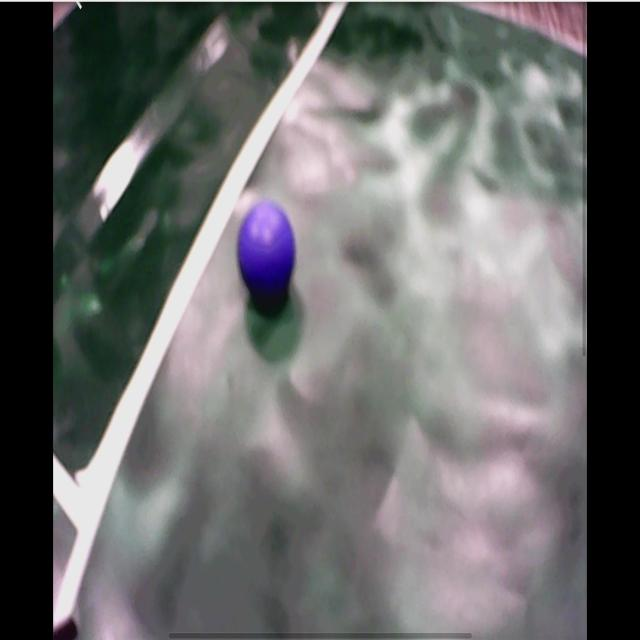ball: (238, 204, 294, 292)
